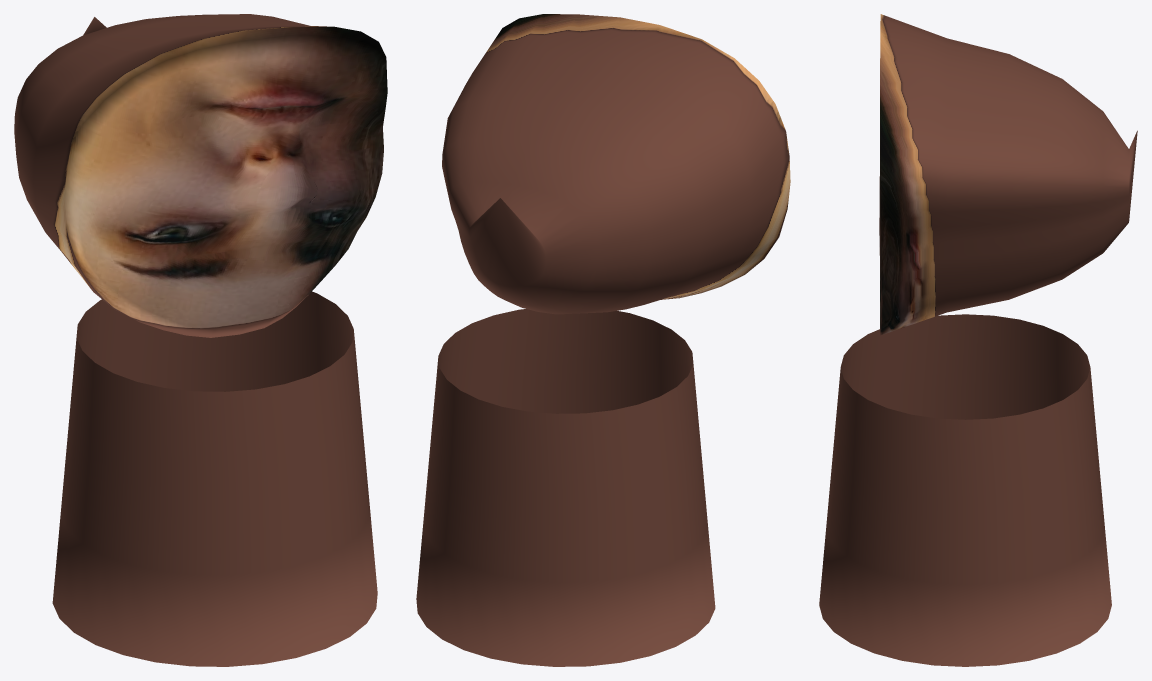
Rendered from a173bebe-d9f4-4851-9c0d-af70a6574d90.glb.
3 views of the same model, side by side, from view 1: azimuth 30°, elevation 25°; view 2: azimuth 150°, elevation 25°; view 3: azimuth 270°, elevation 25° (orthographic). The views are drawn at different scales.
Visible parts, largest first — view 1: AvatarHead; view 2: AvatarHead; view 3: AvatarHead.
Part boxes in pixels (x1,y1,x2,y2): AvatarHead: [14, 14, 387, 666]; AvatarHead: [416, 14, 790, 666]; AvatarHead: [819, 14, 1137, 666].
Size of the model in its own units: 0.1631 by 0.2797 by 0.148.
Materials: 1 (1 with a texture image).
